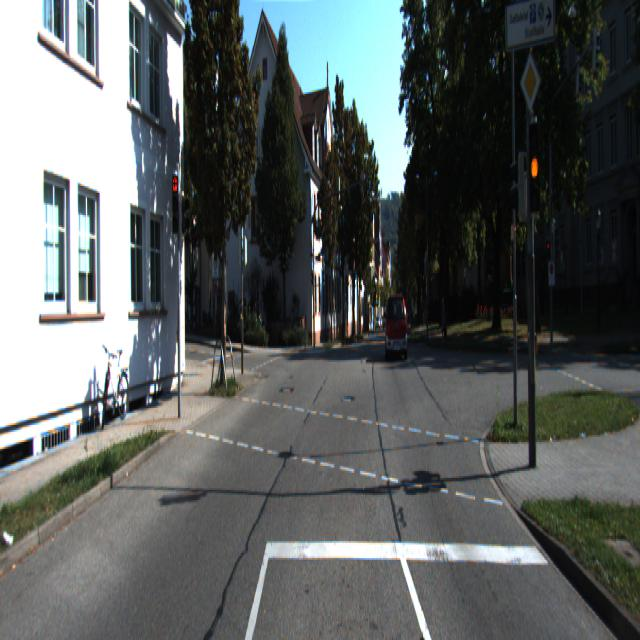Car: (386, 295, 409, 362)
